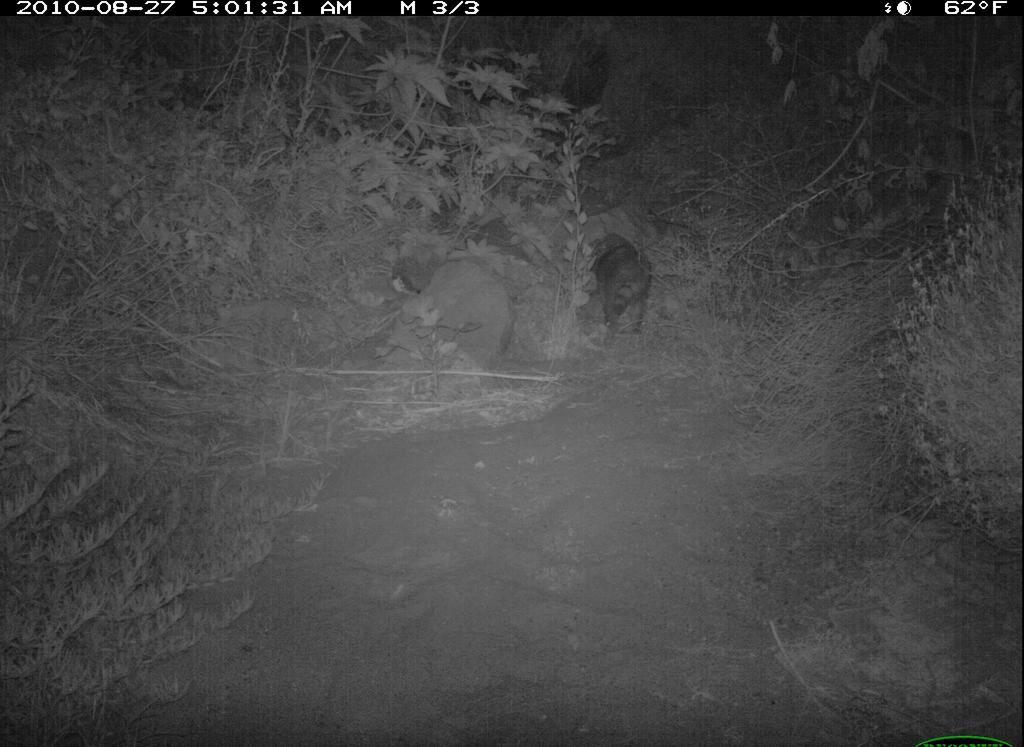raccoon: (568, 213, 665, 346)
